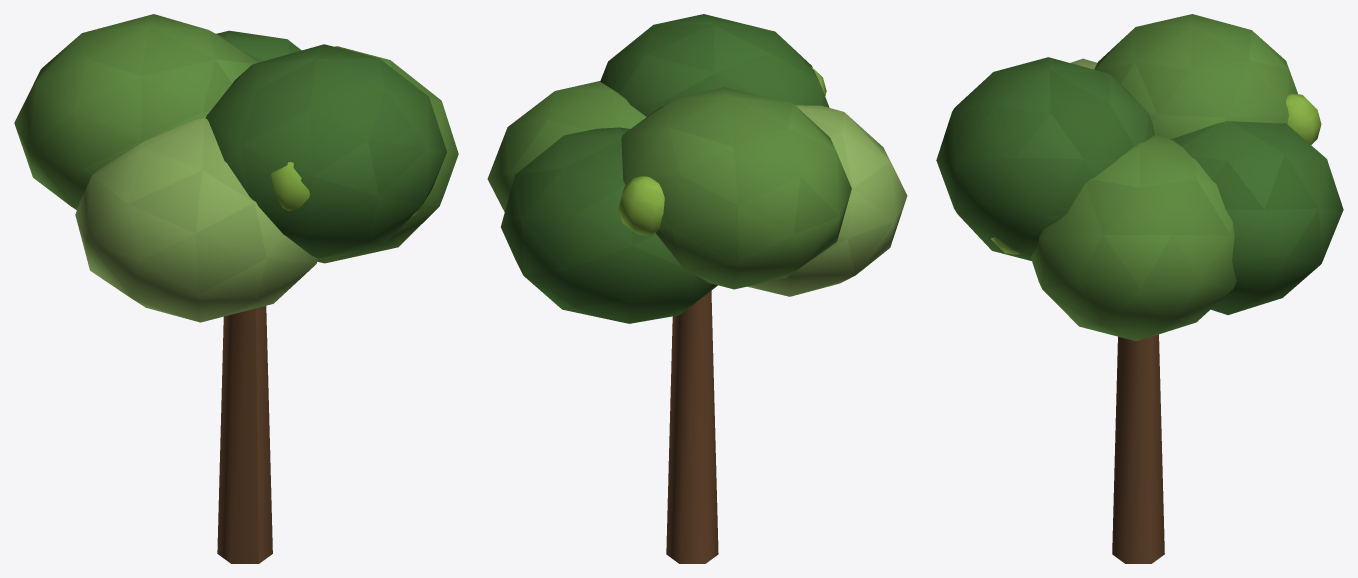
File: crop-lime-ready.glb
3 renders of one model, left to right at view 1: azimuth 30°, elevation 25°; view 2: azimuth 150°, elevation 25°; view 3: azimuth 270°, elevation 25°, orthographic. The views are drawn at different scales.
Parts seen in each view (by area): view 1: crop-lime-ready-kit; view 2: crop-lime-ready-kit; view 3: crop-lime-ready-kit.
Part boxes in pixels (x1,y1,x2,y2): crop-lime-ready-kit: [14, 14, 458, 563]; crop-lime-ready-kit: [487, 14, 907, 563]; crop-lime-ready-kit: [936, 14, 1343, 563].
Bounding box in the file's own units: 0.8078 × 1.04 × 0.7735.
